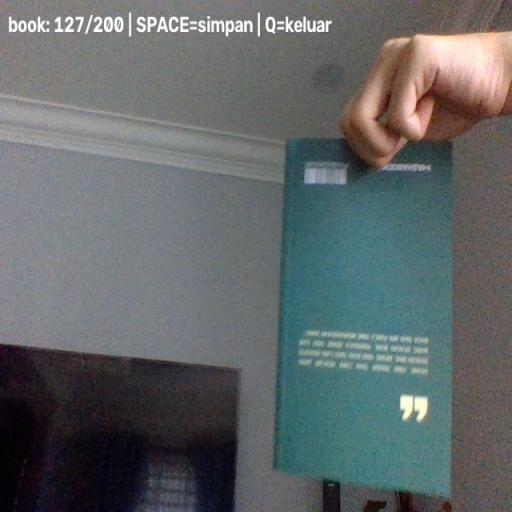Book: (273, 137, 454, 500)
